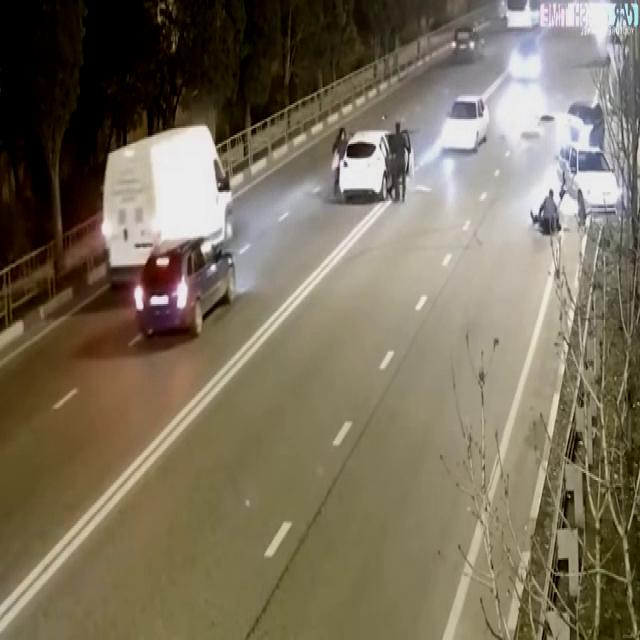accident: (529, 100, 629, 238)
non-accident: (100, 123, 236, 340)
